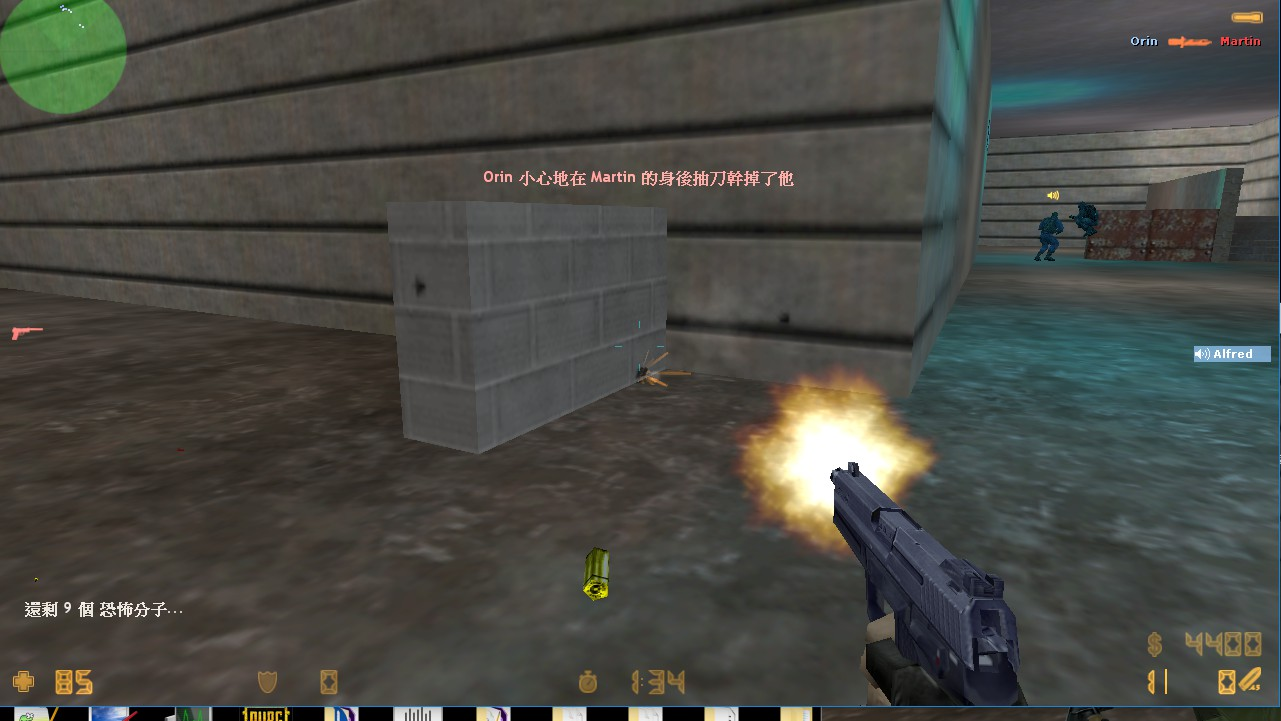person: (1033, 207, 1065, 264), (1069, 198, 1102, 242)
